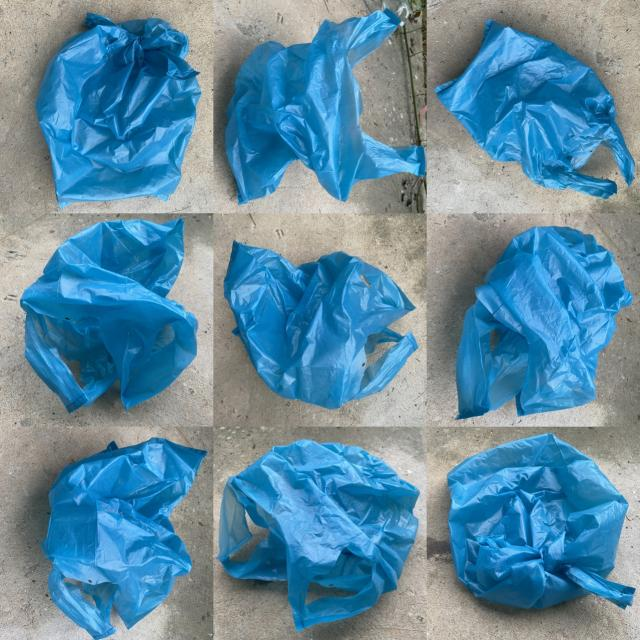Single-layer Plastic: (225, 9, 425, 204), (218, 440, 419, 630), (435, 20, 635, 199), (20, 219, 198, 412), (456, 226, 632, 418), (41, 438, 206, 640), (224, 241, 418, 409), (448, 434, 634, 609), (36, 12, 201, 208)
